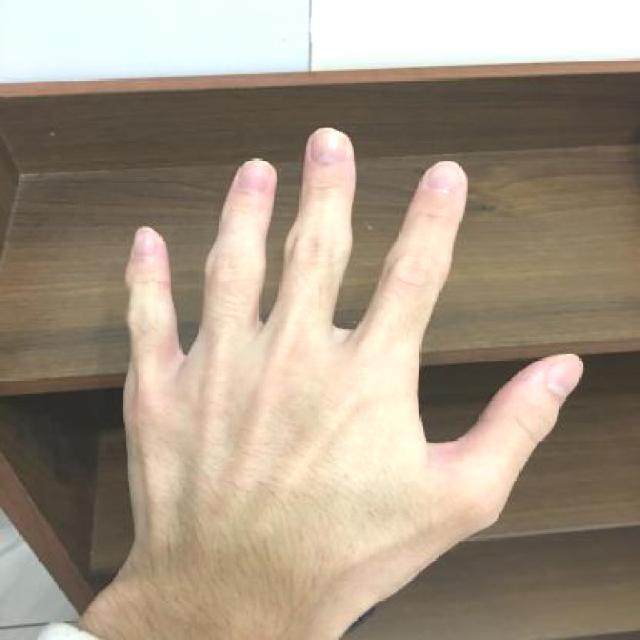no_glove: (62, 117, 596, 640)
